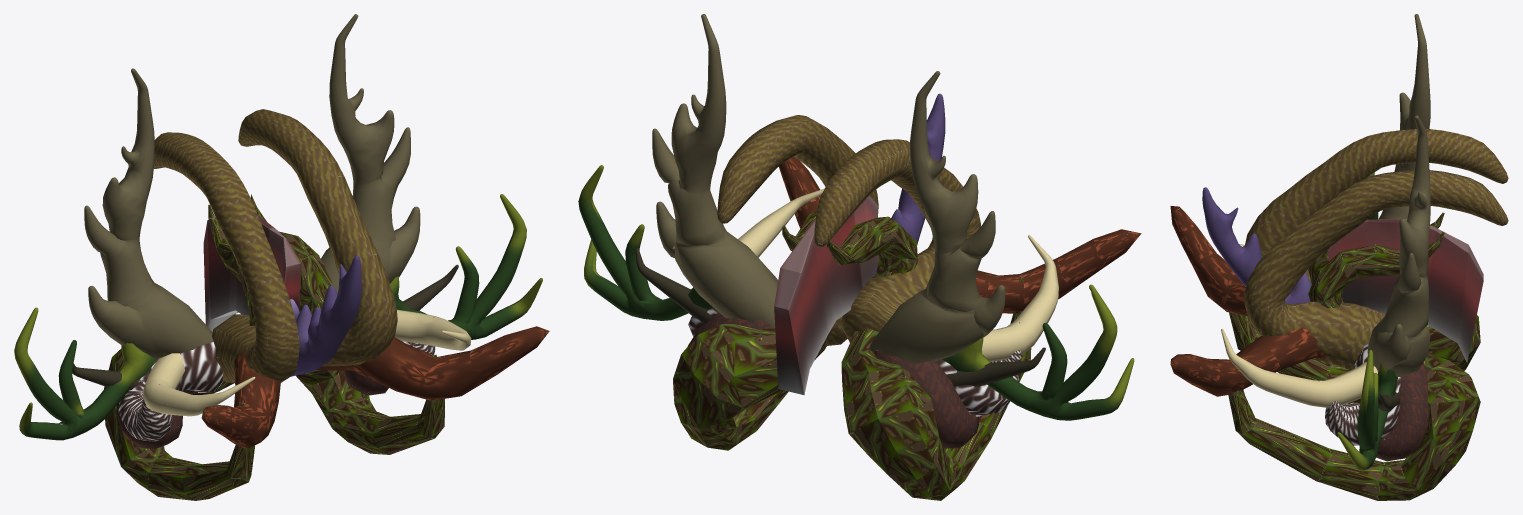
The model's file is Cuernos.fbx.
3 views of the same model, side by side, from view 1: azimuth 30°, elevation 25°; view 2: azimuth 150°, elevation 25°; view 3: azimuth 270°, elevation 25° (orthographic). The views are drawn at different scales.
Parts seen in each view (by area): view 1: C6, C5, C10, C3, C9, C4, C7, C8, C2, C1; view 2: C5, C10, C6, C3, C8, C9, C4, C1, C7, C2; view 3: C6, C10, C5, C8, C9, C4, C3, C7, C1, C2.
Part boxes in pixels (x1,y1,x2,y2): C6: (153,109,397,383); C5: (72,14,458,390); C10: (104,194,444,500); C3: (14,194,542,440); C9: (201,326,549,448); C4: (142,309,471,416); C7: (290,255,361,376); C8: (203,215,301,331); C2: (118,317,435,441); C1: (116,370,388,449); C5: (635,14,1045,386); C10: (673,210,1031,500); C6: (717,115,980,345); C3: (578,165,1134,420); C8: (774,196,878,395); C9: (778,156,1141,313); C4: (738,188,1058,361); C1: (687,312,978,448); C7: (874,93,945,275); C2: (688,307,1021,416); C6: (1244,129,1508,370); C10: (1228,212,1480,500); C5: (1367,14,1430,411); C8: (1327,219,1483,363); C9: (1170,206,1325,396); C4: (1221,244,1377,407); C3: (1337,172,1397,470); C7: (1202,187,1311,303); C1: (1376,362,1428,461); C2: (1318,344,1400,445).
Size of the model in its own units: 950 by 736 by 579.
